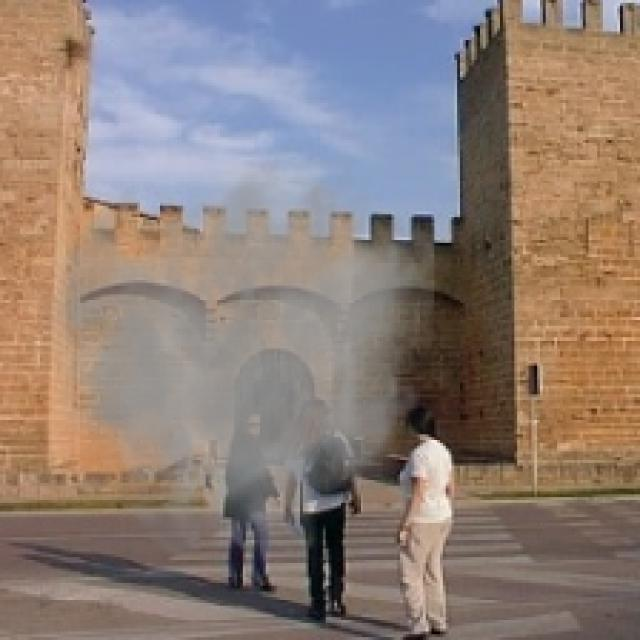Smoke: (19, 148, 434, 566)
